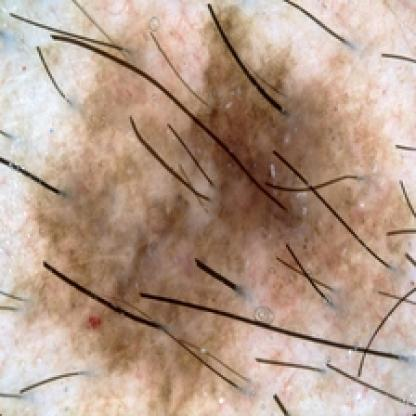Skin_Cancer-Malignant: (26, 3, 416, 416)
